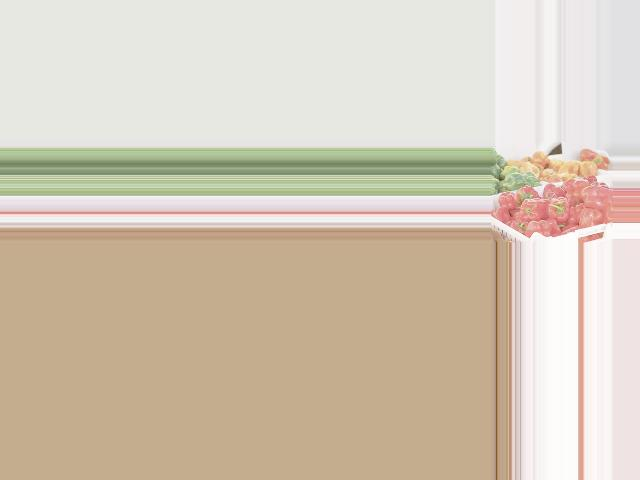bell_pepper: (525, 219, 560, 239)
